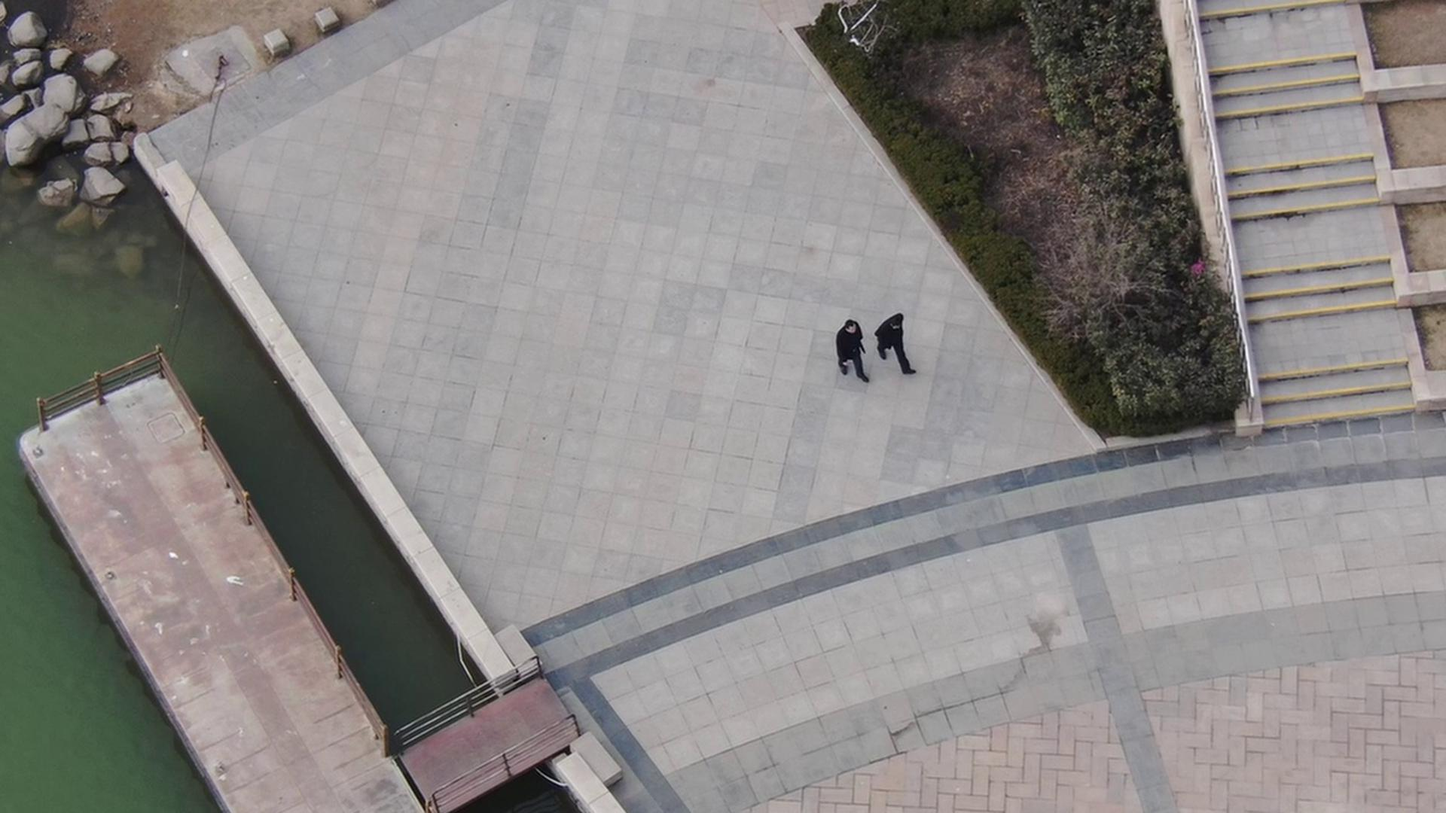human: (862, 303, 915, 365), (827, 308, 862, 379)
